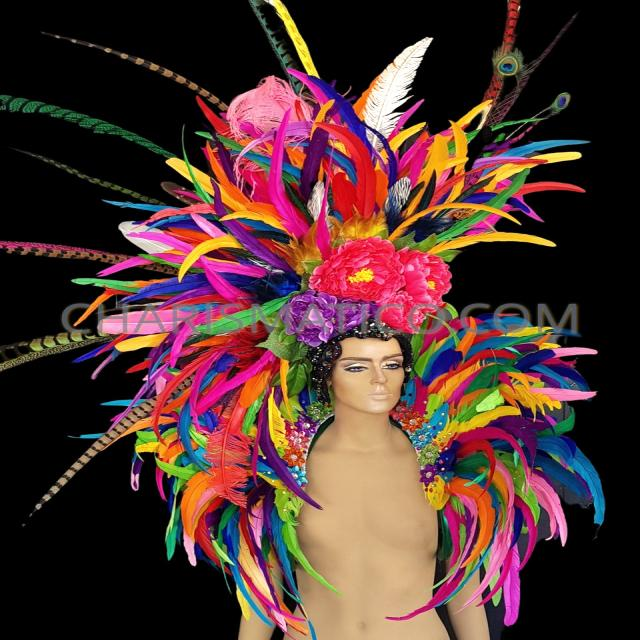Phasianus Colchicus: (28, 393, 152, 516), (43, 33, 224, 108), (1, 96, 171, 149)
